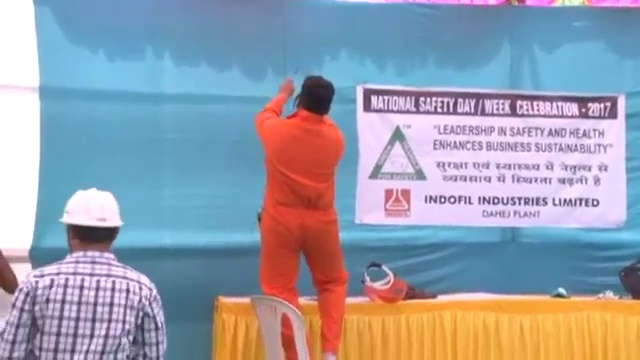helmet: (57, 187, 126, 231)
helmet_off: (297, 75, 332, 117)
helmet_on: (56, 188, 125, 259)
person: (1, 186, 167, 359), (258, 74, 350, 360)
